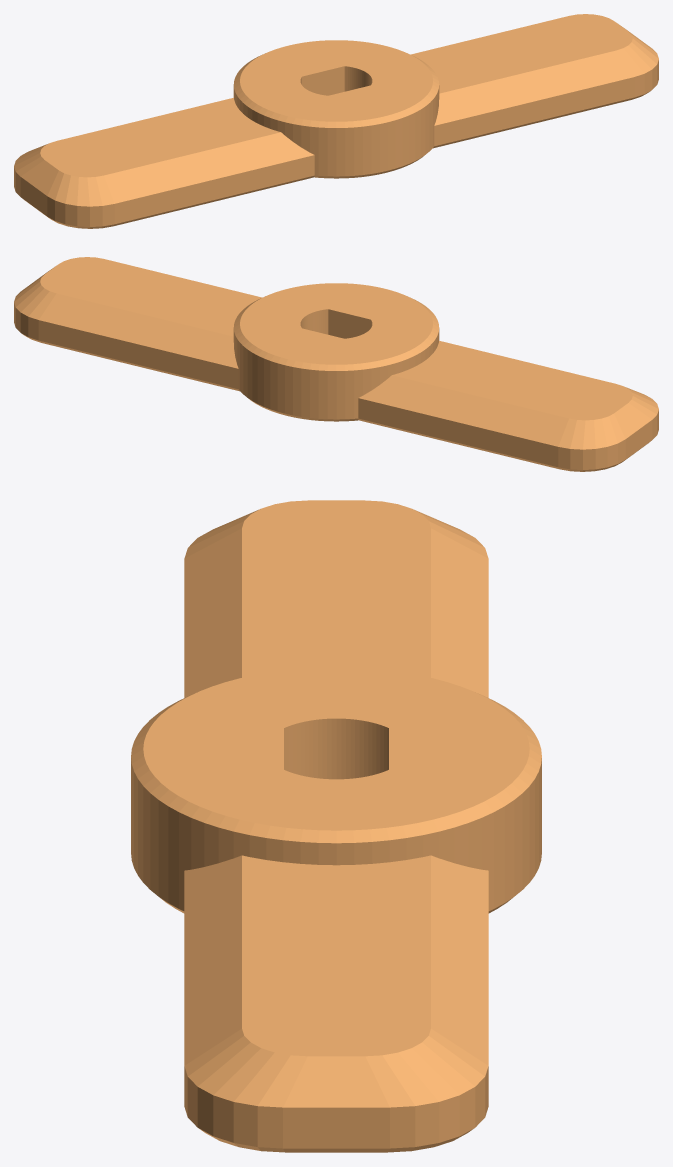
File: kit-rotor-blade.glb
3 views of the same model, one above another, from view 1: azimuth 30°, elevation 25°; view 2: azimuth 150°, elevation 25°; view 3: azimuth 270°, elevation 25° (orthographic). The views are drawn at different scales.
Parts seen in each view (by area): view 1: kit-rotor-blade; view 2: kit-rotor-blade; view 3: kit-rotor-blade.
Boxes of the visible parts, x1,y1,x2,y2 form: kit-rotor-blade: (14, 14, 658, 228); kit-rotor-blade: (14, 257, 658, 471); kit-rotor-blade: (131, 500, 541, 1152).
Size of the model in its own units: 0.068 by 0.006 by 0.02.
